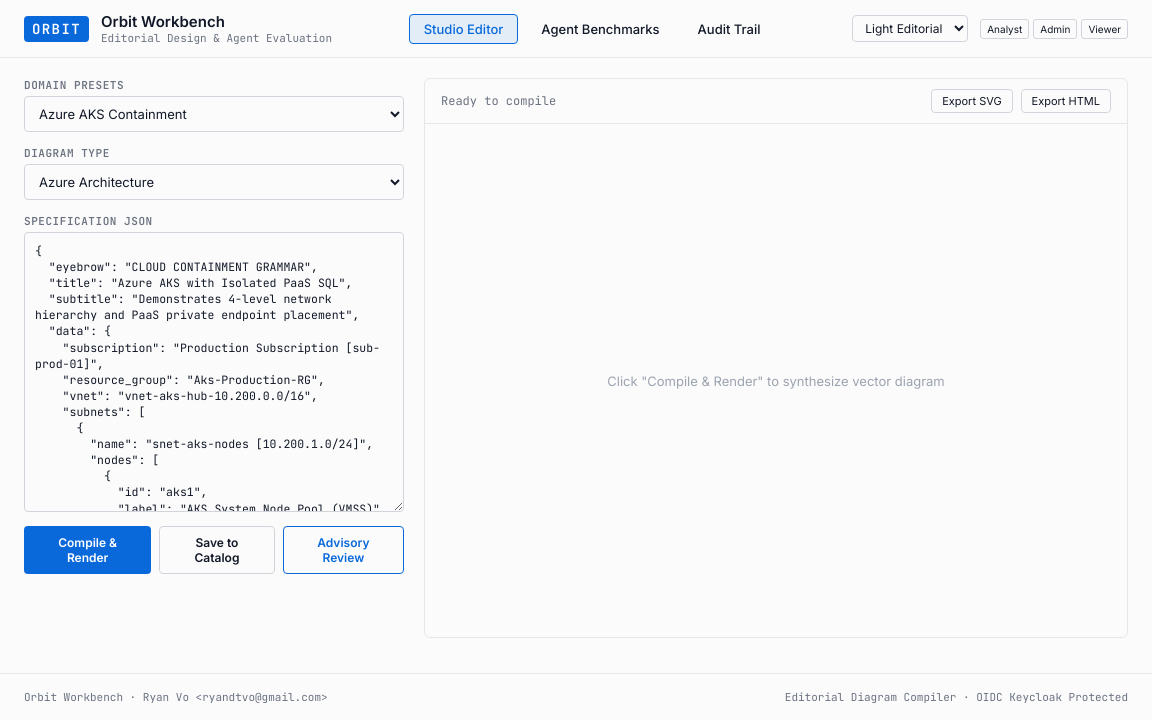
Test: Orbit Workbench User Interface › allows switching navigation tabs to Agent Benchmarks and Audit Trail
Click the button "Agent Benchmarks".
click(600, 28)  # box [526,14,675,44]
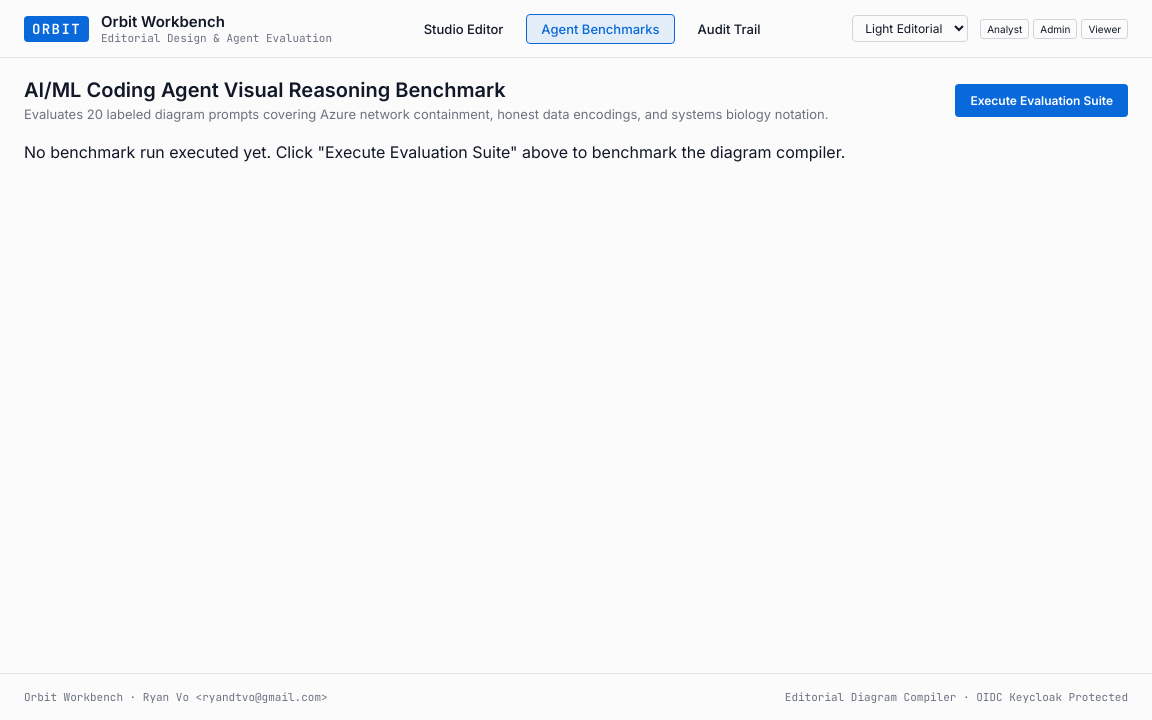
Expected: the heading "AI/ML Coding Agent Visual Reasoning Benchmark" is shown, [24,78,506,102]
Expected: the button "Execute Evaluation Suite" is shown, [955,84,1128,116]
Click the button "Audit Trail".
click(729, 28)  # box [683,14,776,44]
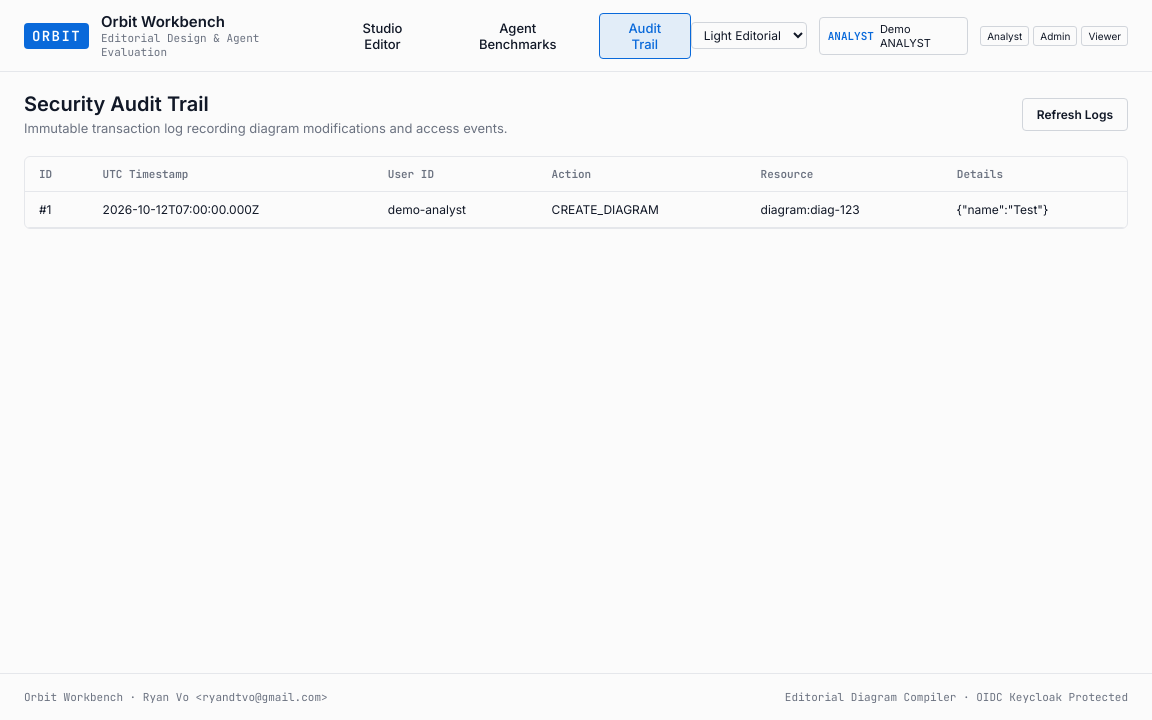
Expected: the heading "Security Audit Trail" is shown, [24,92,209,116]
Expected: the text "CREATE_DIAGRAM" is shown, [552,202,659,217]
